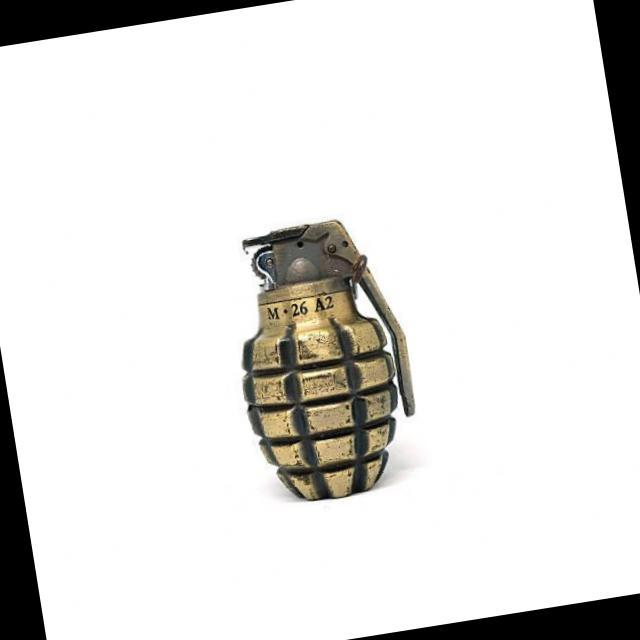grenade: (212, 203, 434, 510)
